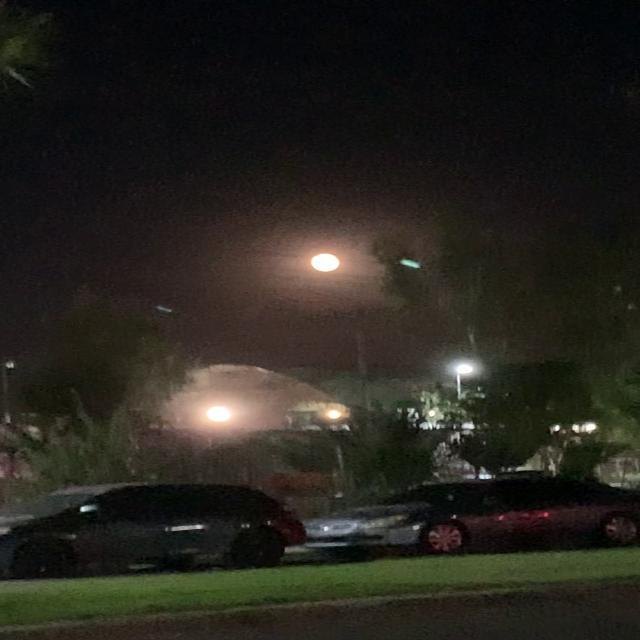moon: (301, 244, 354, 270)
